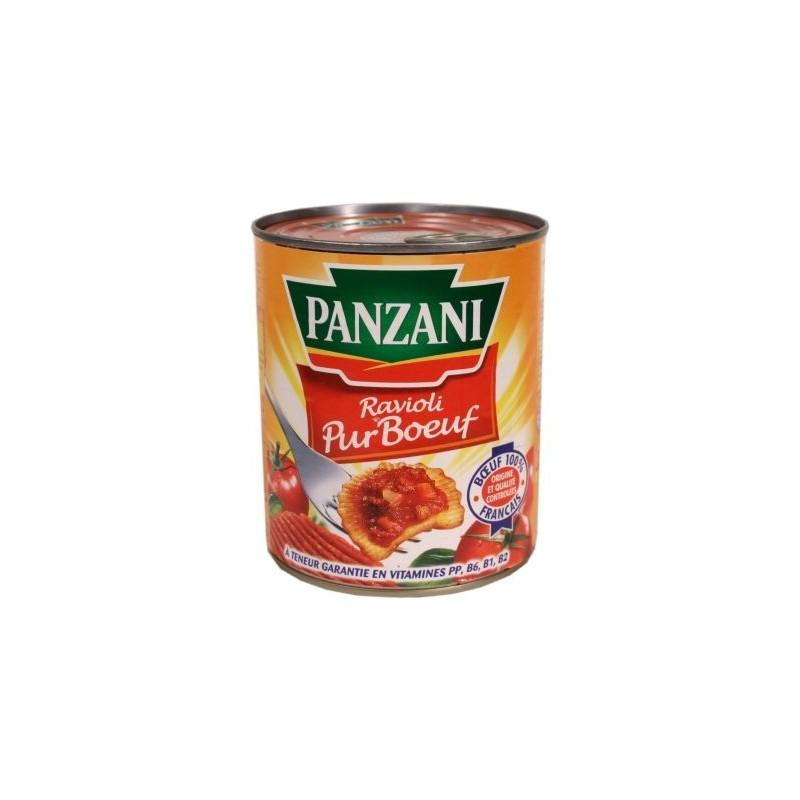metal: (252, 203, 549, 594)
